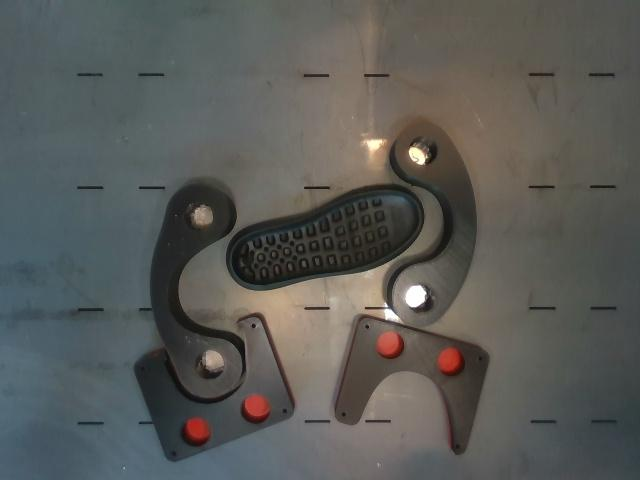shoes: (231, 190, 420, 286)
